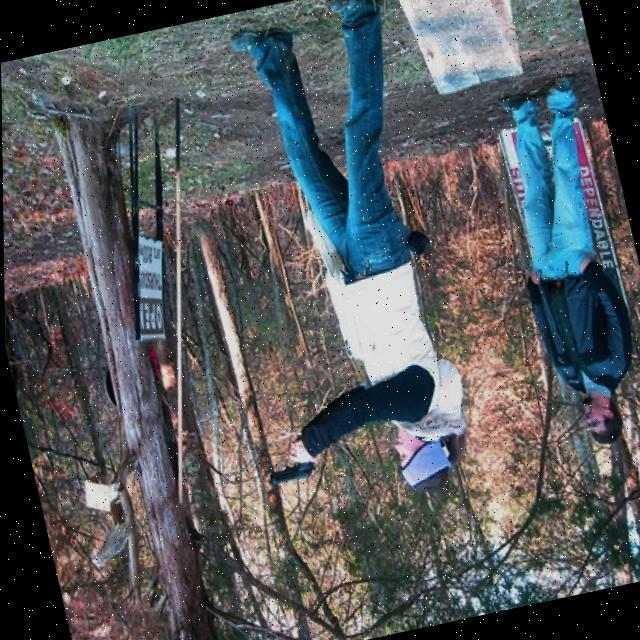pistol: (264, 452, 315, 483)
